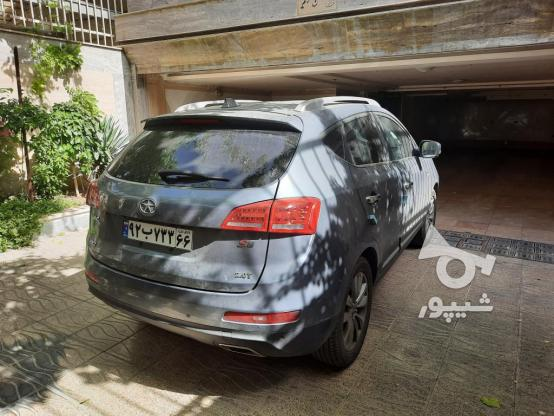car: (121, 219, 195, 251)
